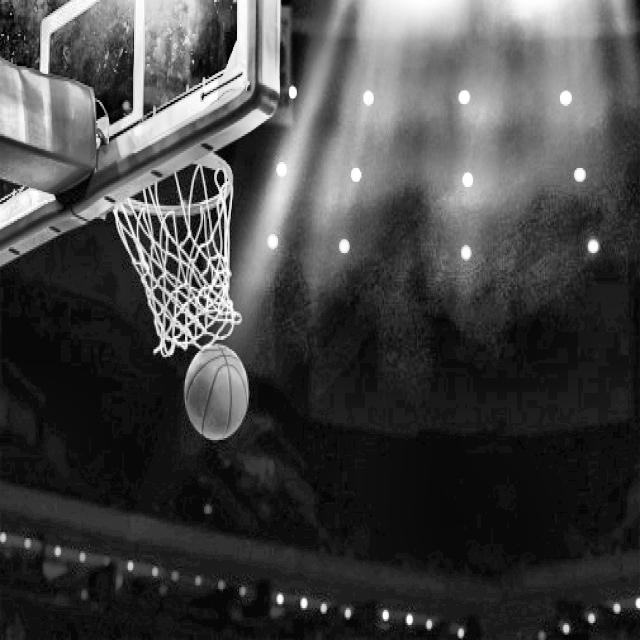Basketball: (185, 345, 248, 440)
